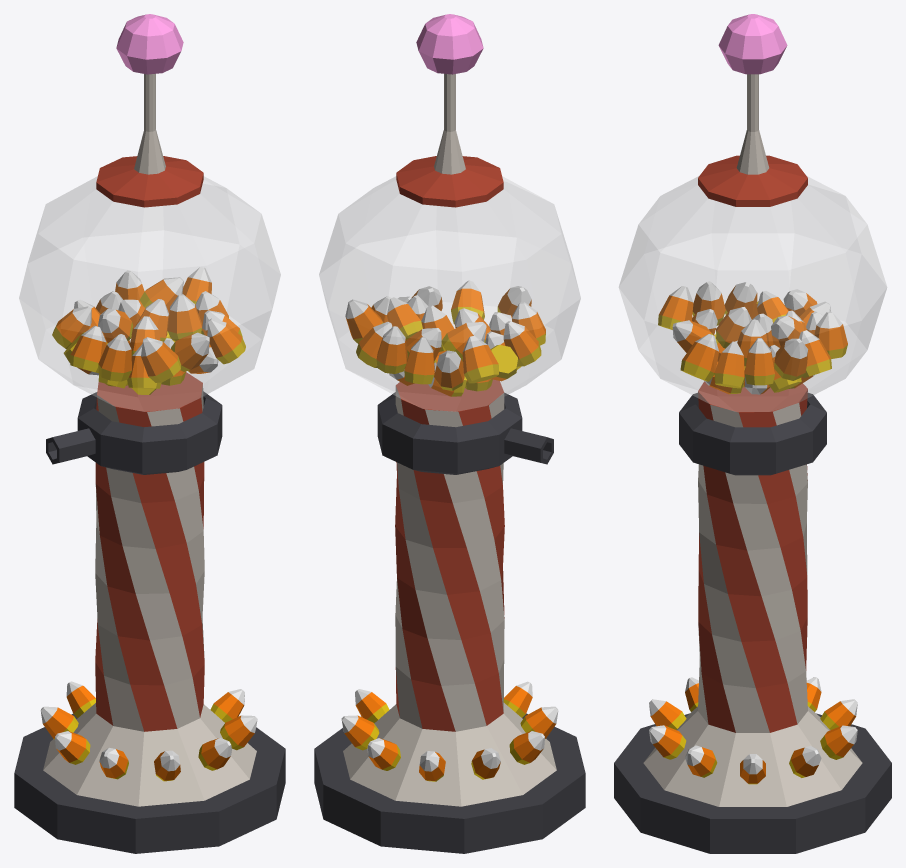
The model's file is Tower_Attack_Speed.fbx.
3 views of the same model, side by side, from view 1: azimuth 30°, elevation 25°; view 2: azimuth 150°, elevation 25°; view 3: azimuth 270°, elevation 25° (orthographic).
Parts seen in each view (by area): view 1: Cylinder, glassKugel, ShootingRifle, cane.024, cane.018, cane.026, cane.020, cane.003, cane.010, cane.025, cane.007, cane.012 (+6 smaller); view 2: Cylinder, glassKugel, ShootingRifle, cane.010, cane.028, cane.027, cane.003, cane.023, cane.008, cane.007, cane.012, cane.025 (+6 smaller); view 3: Cylinder, glassKugel, ShootingRifle, cane.026, cane.005, cane.023, cane.021, cane.028, cane.024, cane.015, cane.011, cane.018 (+6 smaller).
Part boxes in pixels (x1,y1,x2,y2): Cylinder: [14, 14, 285, 853]; glassKugel: [19, 176, 280, 411]; ShootingRifle: [46, 391, 222, 474]; cane.024: [141, 337, 180, 382]; cane.018: [98, 334, 131, 381]; cane.026: [207, 318, 245, 364]; cane.020: [167, 294, 201, 340]; cane.003: [70, 325, 106, 372]; cane.010: [52, 306, 91, 348]; cane.025: [171, 332, 209, 371]; cane.007: [139, 277, 183, 312]; cane.012: [98, 309, 133, 343]; Cylinder: [314, 14, 585, 853]; glassKugel: [319, 176, 580, 411]; ShootingRifle: [377, 392, 553, 474]; cane.010: [462, 335, 498, 383]; cane.028: [376, 326, 407, 373]; cane.027: [404, 337, 434, 384]; cane.003: [503, 321, 541, 366]; cane.023: [345, 299, 383, 343]; cane.008: [434, 350, 464, 390]; cane.007: [387, 297, 422, 340]; cane.012: [441, 322, 486, 361]; cane.025: [451, 280, 484, 324]; Cylinder: [614, 14, 891, 853]; glassKugel: [619, 176, 886, 411]; ShootingRifle: [679, 393, 826, 475]; cane.026: [680, 334, 718, 381]; cane.005: [744, 338, 774, 385]; cane.023: [774, 338, 808, 380]; cane.021: [714, 341, 744, 388]; cane.028: [814, 311, 847, 358]; cane.024: [658, 286, 693, 329]; cane.015: [799, 330, 831, 377]; cane.011: [716, 307, 751, 348]; cane.018: [692, 281, 725, 325].
Bounding box in the file's own units: 76.08 × 248 × 80.
